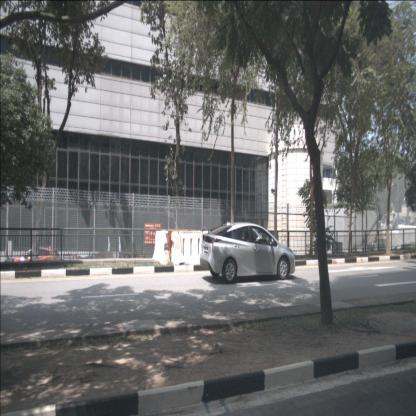barrier: (171, 231, 204, 266), (152, 228, 171, 269), (168, 230, 174, 257)
